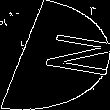N_W: (8, 29, 102, 81)
